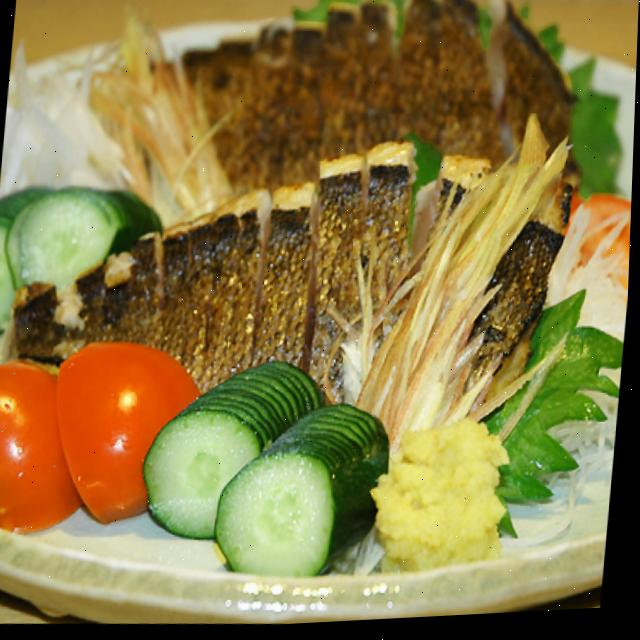熟制海鲜: (6, 0, 608, 478)
